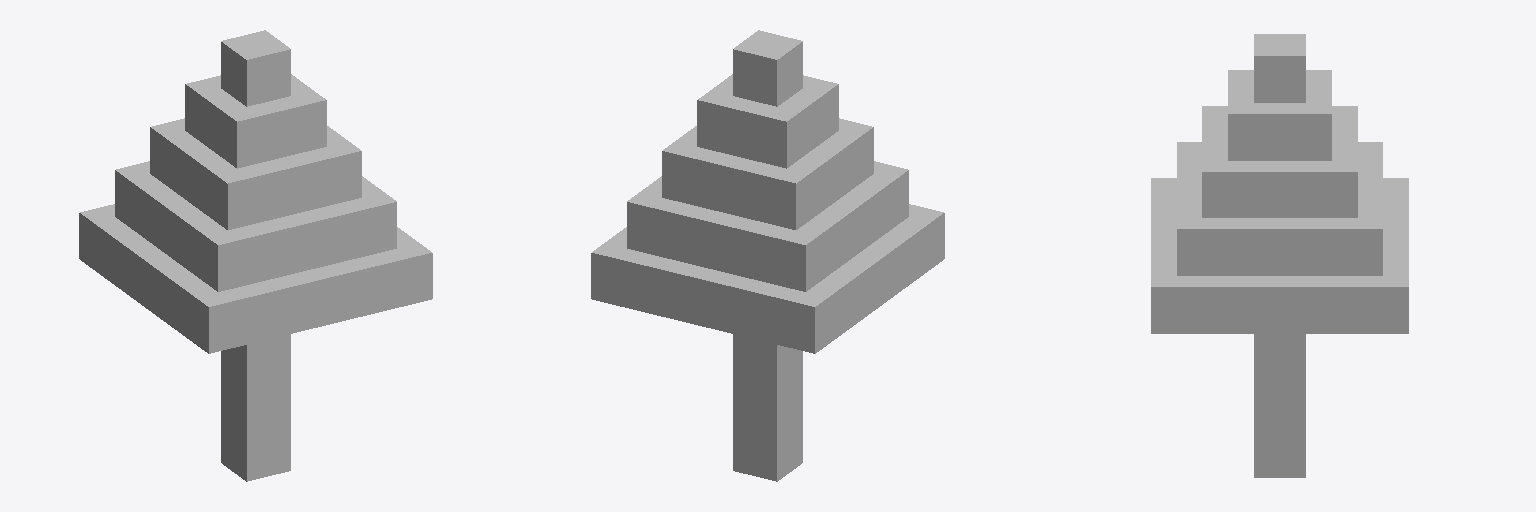
The model's file is tree1.obj.
3 views of the same model, side by side, from view 1: azimuth 30°, elevation 25°; view 2: azimuth 150°, elevation 25°; view 3: azimuth 270°, elevation 25° (orthographic).
Visible parts, largest first — view 1: object 1; view 2: object 1; view 3: object 1.
Boxes of the visible parts, <box> form: object 1: <box>79,30,432,481</box>; object 1: <box>591,30,944,481</box>; object 1: <box>1151,34,1408,477</box>.
Size of the model in its own units: 1 by 1.8 by 1.